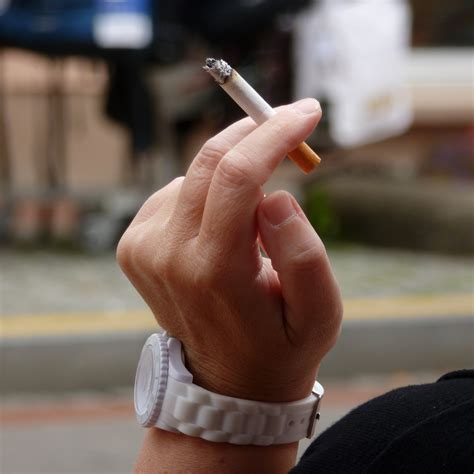cigarette: (203, 57, 321, 174)
